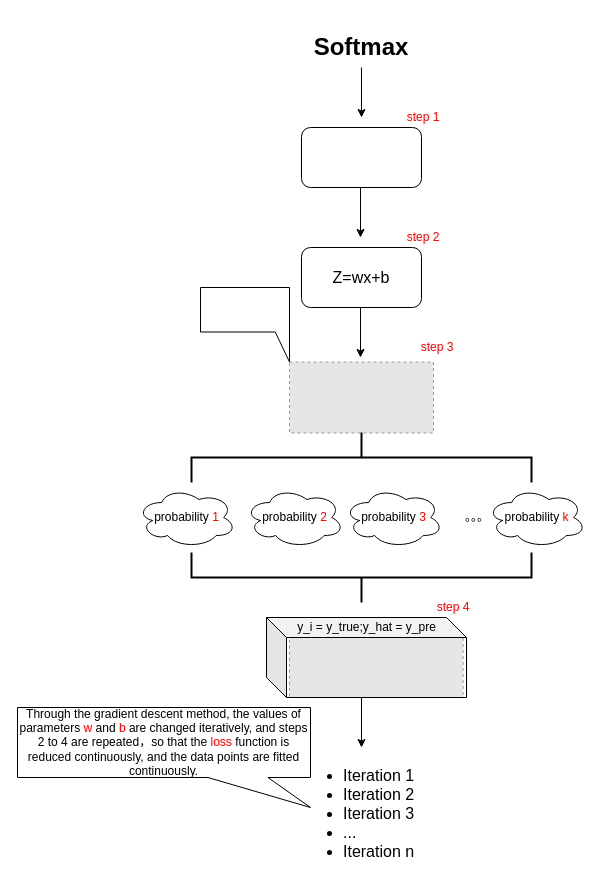
The diagram is 604 pixels wide and 884 high, and some of its shapes have lost their labels. Grey dashed boxes stand in for pictures. Each missing label, with the centre of its shape:
"Import value Z into Softmax" goes at point 245,324.
"Loading Data" goes at point 361,157.
